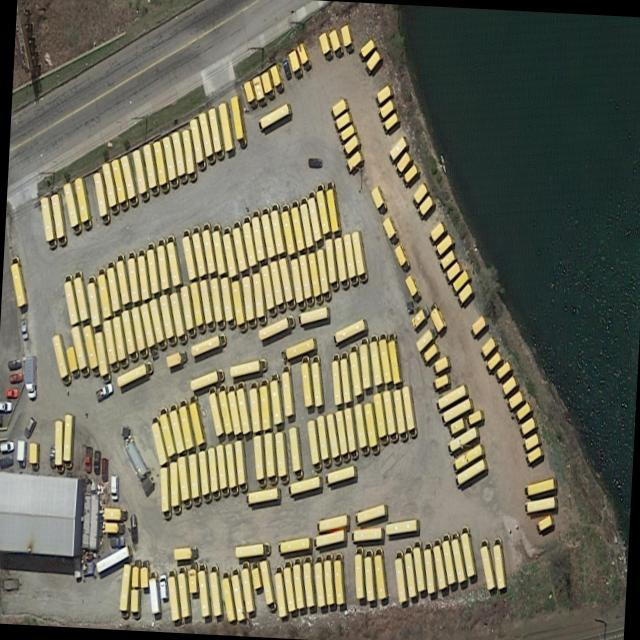large-vehicle: (115, 358, 153, 388), (50, 331, 71, 385), (95, 543, 132, 573), (256, 313, 295, 341), (70, 323, 90, 377), (169, 128, 188, 184), (62, 179, 81, 234), (332, 316, 368, 345), (81, 322, 100, 376), (350, 227, 368, 283), (141, 140, 159, 196), (149, 413, 168, 466), (129, 304, 148, 357), (109, 157, 128, 210), (229, 565, 246, 624), (279, 334, 316, 361), (111, 313, 129, 368), (277, 254, 295, 309), (458, 523, 476, 578), (197, 110, 215, 165), (454, 457, 487, 487), (187, 393, 205, 447), (258, 557, 276, 611), (131, 147, 149, 201), (73, 175, 91, 229), (161, 134, 179, 188), (447, 424, 479, 454), (452, 442, 484, 472), (93, 329, 111, 382), (119, 153, 137, 206), (478, 537, 496, 590), (449, 529, 466, 585), (139, 301, 157, 353), (9, 255, 27, 307), (62, 273, 80, 325), (121, 307, 138, 362), (324, 179, 341, 234), (208, 274, 225, 329), (430, 537, 447, 592), (352, 400, 369, 455), (92, 169, 109, 224), (39, 194, 56, 249), (257, 101, 290, 129), (102, 317, 119, 371), (188, 279, 205, 333), (149, 295, 166, 349), (279, 202, 296, 256), (101, 160, 118, 214), (391, 548, 407, 605), (177, 398, 194, 451), (169, 290, 186, 343), (269, 203, 286, 256), (72, 269, 89, 322), (189, 117, 206, 170), (372, 546, 388, 602), (435, 383, 467, 411), (152, 137, 168, 193), (167, 402, 184, 454), (159, 292, 176, 344), (180, 228, 197, 280), (217, 100, 234, 152), (306, 249, 322, 304), (289, 255, 305, 310), (387, 330, 403, 385), (325, 410, 341, 465), (342, 405, 358, 460), (176, 454, 192, 509), (207, 105, 223, 160), (196, 563, 211, 621), (206, 386, 223, 437), (221, 227, 238, 278), (289, 198, 305, 252), (306, 188, 322, 242), (314, 182, 330, 236), (315, 247, 331, 301), (230, 278, 246, 332), (440, 532, 456, 586), (440, 397, 472, 424), (250, 209, 266, 263), (85, 274, 101, 328), (228, 357, 267, 379), (272, 563, 287, 620), (208, 563, 223, 620), (219, 275, 235, 328), (259, 206, 275, 259), (50, 193, 66, 246), (105, 259, 121, 312), (165, 234, 181, 287), (189, 368, 224, 392), (333, 234, 348, 290), (117, 562, 132, 618), (158, 408, 175, 457), (115, 253, 131, 305), (190, 333, 226, 356), (377, 330, 392, 385), (235, 380, 250, 435), (268, 371, 283, 426), (342, 231, 357, 286), (298, 251, 313, 306), (411, 538, 426, 593), (220, 569, 235, 624), (324, 237, 339, 291), (251, 269, 266, 323), (241, 274, 256, 328), (199, 276, 214, 330), (363, 400, 378, 454), (273, 430, 288, 484), (262, 430, 277, 484), (176, 565, 191, 619), (241, 214, 256, 268), (230, 92, 245, 146), (191, 227, 207, 277), (226, 383, 241, 436), (261, 264, 276, 317), (180, 283, 195, 336), (334, 409, 349, 462), (401, 384, 416, 437), (240, 560, 255, 613), (135, 247, 150, 300), (181, 126, 196, 179), (315, 414, 330, 467), (280, 362, 294, 418), (287, 474, 321, 497), (372, 392, 387, 444), (382, 389, 397, 441), (392, 388, 407, 440), (96, 266, 111, 318), (211, 223, 226, 275), (232, 221, 247, 273), (306, 418, 321, 470), (302, 555, 316, 610), (402, 543, 416, 598), (288, 423, 302, 478), (197, 448, 211, 503), (166, 567, 180, 622), (217, 384, 232, 435), (354, 502, 387, 525), (299, 195, 313, 249), (368, 334, 382, 388), (252, 432, 266, 486), (233, 437, 247, 491), (299, 355, 313, 408), (348, 344, 362, 397), (270, 259, 284, 312), (187, 452, 201, 505), (492, 536, 506, 589), (126, 250, 140, 302), (258, 377, 271, 431), (339, 349, 352, 403), (422, 542, 435, 596), (215, 442, 228, 496), (310, 354, 323, 407), (291, 557, 304, 610), (224, 441, 237, 494), (312, 528, 346, 548), (358, 338, 371, 390), (316, 512, 348, 533), (201, 226, 215, 274), (276, 535, 311, 554), (156, 239, 169, 290), (523, 476, 556, 496), (325, 464, 356, 485), (146, 243, 159, 293), (245, 487, 281, 505), (233, 542, 271, 559), (148, 570, 162, 616), (297, 305, 329, 325), (283, 559, 295, 612), (207, 445, 219, 498), (168, 460, 180, 513), (363, 549, 375, 601), (323, 552, 334, 608), (248, 381, 260, 432), (330, 351, 341, 406), (313, 554, 324, 608), (385, 517, 418, 535), (63, 412, 74, 466), (333, 552, 344, 605), (353, 546, 364, 599), (159, 465, 170, 518), (350, 526, 383, 542), (523, 496, 556, 512), (25, 356, 37, 397), (54, 419, 62, 470)
small-vehicle: (415, 323, 437, 351), (387, 135, 408, 163), (429, 300, 445, 333), (434, 232, 454, 258), (410, 304, 429, 329), (329, 96, 348, 120), (287, 48, 302, 78), (451, 268, 469, 293), (269, 60, 283, 92), (328, 26, 342, 58), (411, 180, 428, 206), (164, 348, 187, 367), (404, 273, 420, 300), (345, 148, 363, 172), (428, 219, 446, 243), (456, 281, 474, 305), (417, 193, 434, 218), (342, 133, 360, 156), (377, 98, 395, 121), (479, 335, 496, 359), (260, 69, 274, 98), (296, 41, 310, 70), (242, 79, 256, 108), (252, 74, 265, 105), (395, 150, 411, 175), (333, 110, 351, 132), (438, 248, 456, 270), (500, 373, 518, 395), (394, 242, 408, 270), (358, 37, 375, 60), (444, 260, 461, 283), (431, 354, 450, 374), (525, 444, 543, 465), (421, 342, 438, 364), (375, 83, 392, 105), (318, 31, 331, 59), (365, 49, 380, 73), (337, 122, 355, 142), (506, 389, 524, 409), (518, 416, 536, 436), (522, 432, 540, 452), (382, 111, 399, 132), (514, 400, 531, 421), (402, 162, 418, 184), (470, 314, 486, 336), (485, 350, 501, 372), (382, 214, 396, 239), (370, 184, 384, 209), (340, 23, 352, 52), (448, 415, 465, 435), (494, 360, 511, 380), (536, 513, 553, 533), (173, 546, 197, 559), (250, 561, 261, 589), (95, 381, 112, 399), (432, 372, 449, 390), (23, 415, 36, 438), (103, 507, 126, 519), (466, 408, 482, 425), (16, 439, 25, 466), (158, 573, 167, 598), (188, 564, 196, 592), (131, 559, 139, 586), (139, 563, 147, 589), (104, 521, 122, 532), (130, 514, 137, 542), (110, 474, 118, 498), (30, 442, 37, 468), (282, 59, 291, 79), (84, 446, 91, 471), (93, 450, 100, 473), (308, 157, 322, 168), (101, 457, 107, 481), (49, 445, 55, 469), (0, 455, 13, 466), (0, 440, 13, 451), (7, 358, 20, 369), (21, 316, 27, 338), (9, 372, 22, 382), (110, 535, 123, 545), (5, 388, 17, 398), (0, 400, 11, 409)
